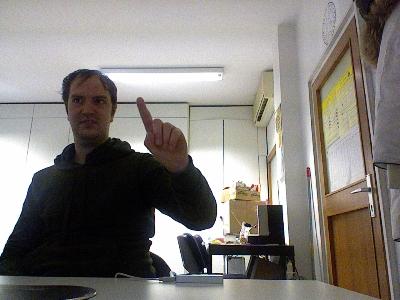食指: (134, 96, 189, 170)
